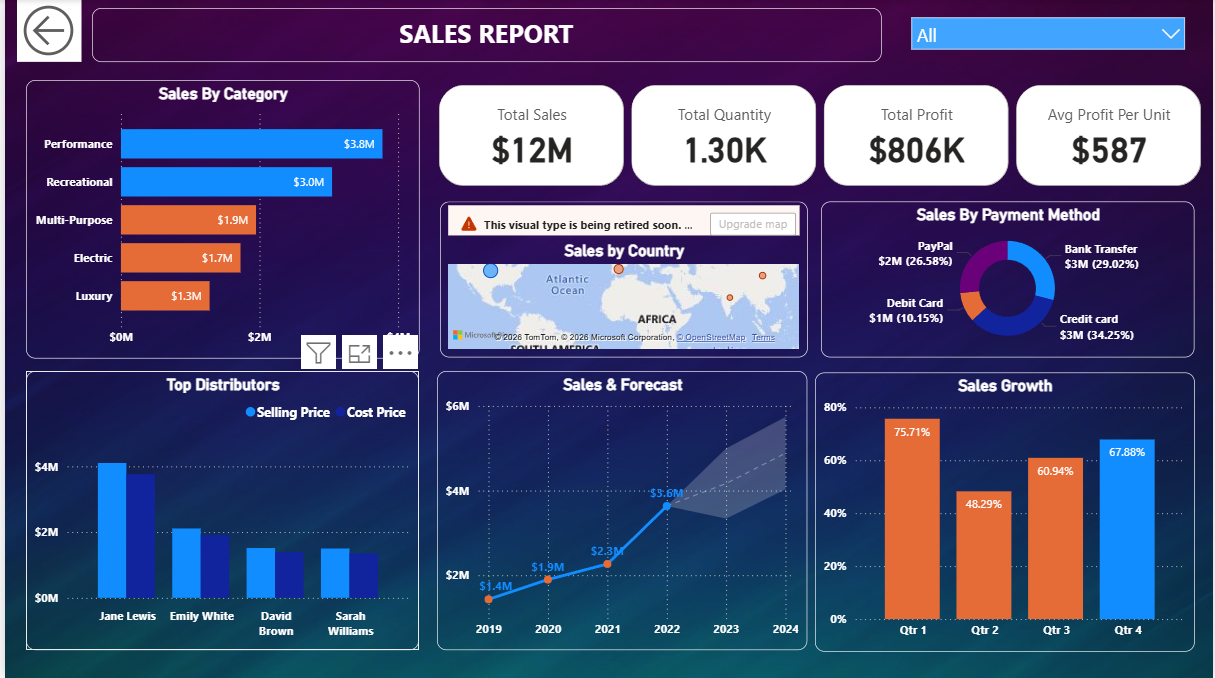

The page's visual inventory and layout, read from the dashboard file:
{"tool":"powerbi","page":{"name":"Sales","canvas":[1280,720],"ordinal":0},"visuals":[{"type":"textbox","box":[92,10,837,57],"z":0},{"type":"cardVisual","fields":{"Data":["Sum(Sales.Sales($))","Sum(Sales.QuantitySold )","Sum(Sales.Profit)","Avg(Sales.ProfitPerUnit)"]},"box":[454.9,85.9,819.2,117.7],"z":1000},{"type":"barChart","title":"Sales By Category","fields":{"Y":["Sum(Sales.Sales($))"],"Category":["Category.Category Type"]},"box":[22.3,85.9,417,295],"z":2000},{"type":"clusteredColumnChart","title":"Top Distributors","fields":{"Y":["Sum(Sales.Sales($))","Sum(Sales.TotalProductionCost)"],"Category":["Distributor.FullName"]},"box":[22.3,394.5,416.7,295.9],"z":3000},{"type":"clusteredColumnChart","title":"Sales Growth","fields":{"Category":["Sales.Date       .Variation.Date Hierarchy.Year","Sales.Date       .Variation.Date Hierarchy.Quarter","Sales.Date       .Variation.Date Hierarchy.Month","Sales.Date       .Variation.Date Hierarchy.Day"],"Y":["Sales.Sum of Sales($) YoY%"]},"box":[858.4,395.5,402.4,295.9],"z":4000},{"type":"lineChart","title":"Sales & Forecast ","fields":{"Category":["Sales.Date       .Variation.Date Hierarchy.Year","Sales.Date       .Variation.Date Hierarchy.Quarter","Sales.Date       .Variation.Date Hierarchy.Month","Sales.Date       .Variation.Date Hierarchy.Day"],"Y":["Sum(Sales.Sales($))"]},"box":[458.1,394.5,392.9,295.9],"z":5000},{"type":"map","title":"Sales by Country","fields":{"Size":["Sum(Sales.Sales($))"],"Category":["Distributor.Country"]},"box":[461.3,214.7,389.7,165.4],"z":6000},{"type":"donutChart","title":"Sales By Payment Method","fields":{"Y":["Sum(Sales.Sales($))"],"Series":["Sales.Payment_Methods. PaymentMethod "]},"box":[865.3,214.7,396.1,165.4],"z":7000},{"type":"slicer","fields":{"Values":["Sales.Date       .Variation.Date Hierarchy.Year"]},"box":[951.2,9.5,310.2,57.3],"z":8000},{"type":"actionButton","box":[12.7,0,68.4,66.8],"z":9000}]}

Visuals, with their boxes in screenshot pixels (x1, y1, x2, y2), scaled from the page's 1280x720 canvas onto the 1215x678 screenshot:
textbox: box(87, 9, 882, 63)
cardVisual - Sum(Sales.Sales($)) x Sum(Sales.QuantitySold ): box(432, 81, 1209, 192)
"Sales By Category" barChart: box(21, 81, 417, 359)
"Top Distributors" clusteredColumnChart: box(21, 371, 417, 650)
"Sales Growth" clusteredColumnChart: box(815, 372, 1197, 651)
"Sales & Forecast " lineChart: box(435, 371, 808, 650)
"Sales by Country" map: box(438, 202, 808, 358)
"Sales By Payment Method" donutChart: box(821, 202, 1197, 358)
slicer - Sales.Date       .Variation.Date Hierarchy.Year: box(903, 9, 1197, 63)
actionButton: box(12, 0, 77, 63)
